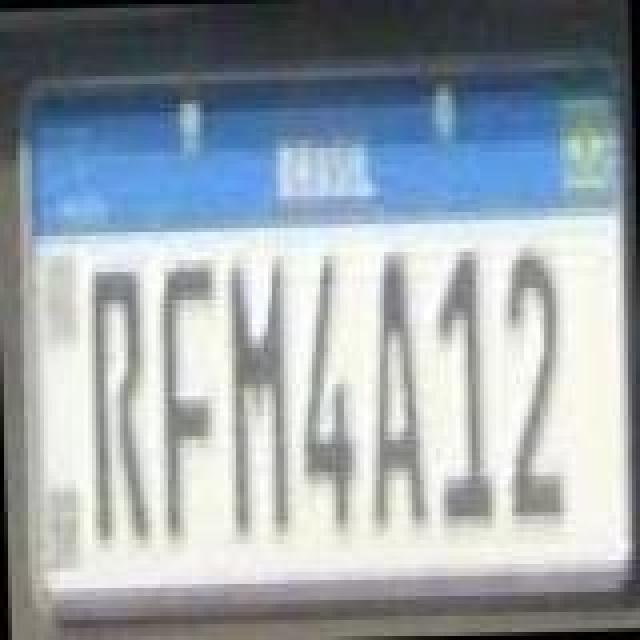1: (432, 246, 496, 530)
2: (502, 246, 570, 522)
4: (296, 254, 360, 530)
A: (362, 242, 430, 526)
F: (158, 258, 226, 542)
M: (222, 256, 290, 544)
R: (88, 270, 152, 546)
